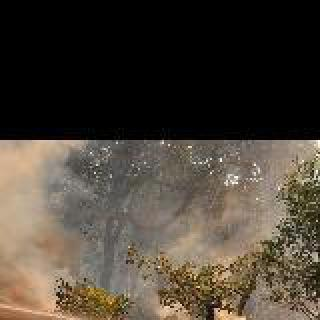fire: (0, 138, 100, 278), (0, 318, 58, 320)
